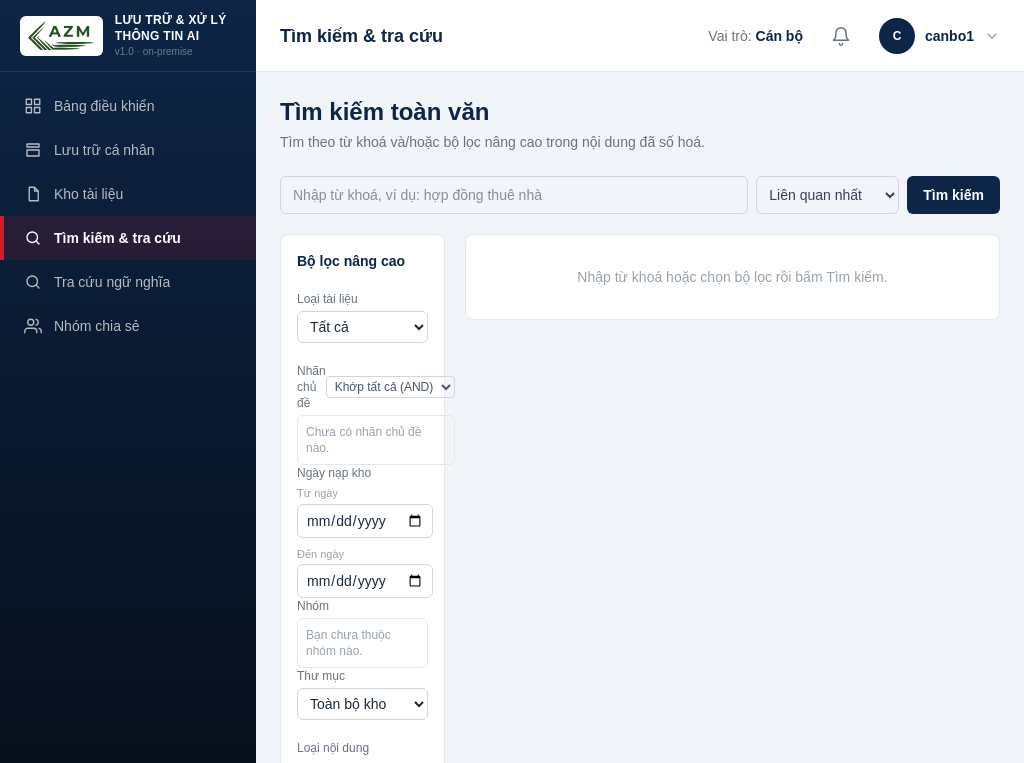
Test case: SearchPage › submits a query, builds the POST /search request, and renders the returned result
Type "hop dong" into the field with placeholder "Nhập từ khoá, ví dụ: hợp đồng thuê nhà" at (514, 195), box [280, 176, 748, 214]
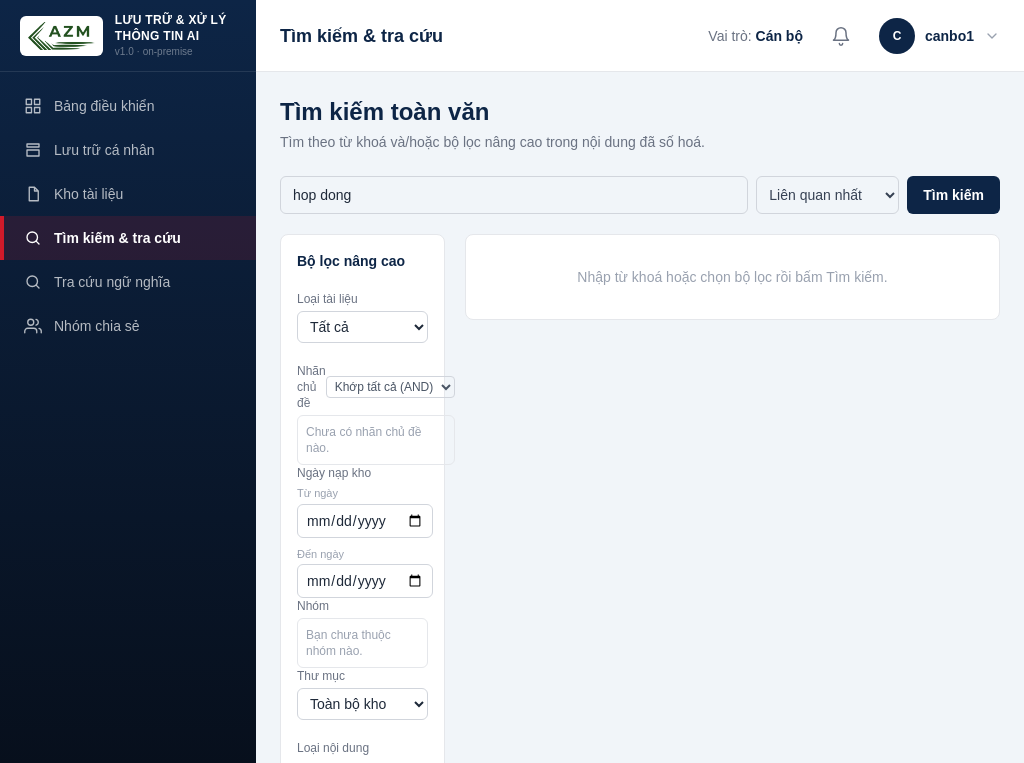
Click the button "Tìm kiếm" at (954, 195), box [907, 176, 1000, 214]
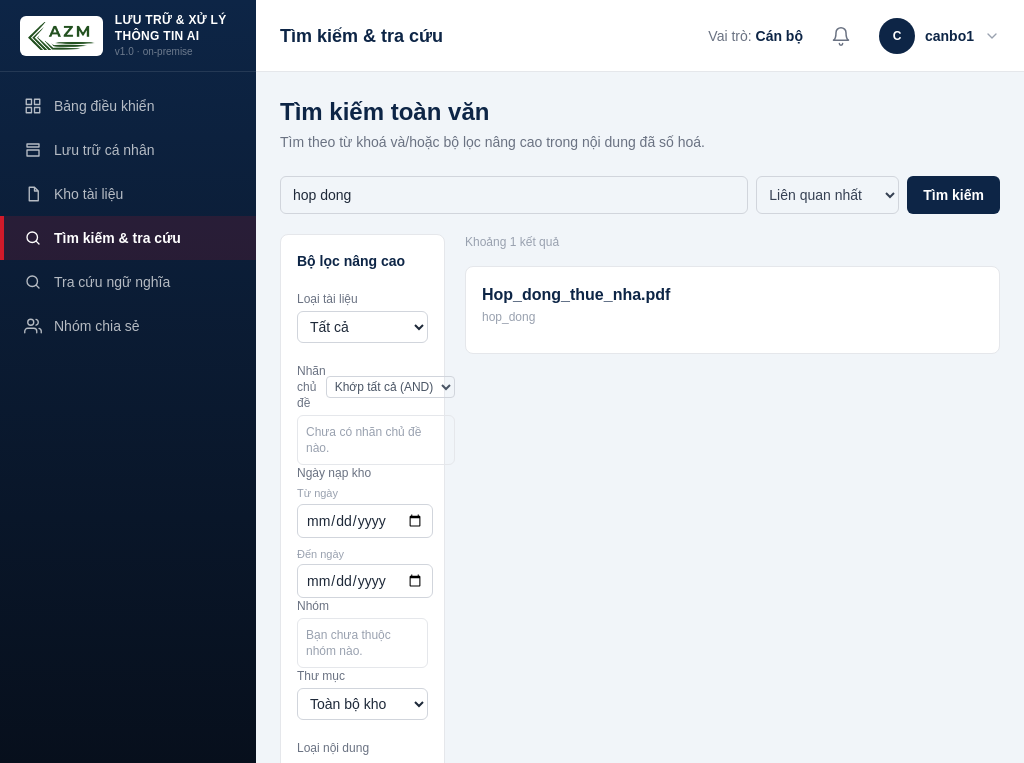
Now the link "Hop_dong_thue_nha.pdf" is shown, box [482, 286, 670, 303]
Now the text "Khoảng 1 kết quả" is shown, box [465, 235, 559, 249]
